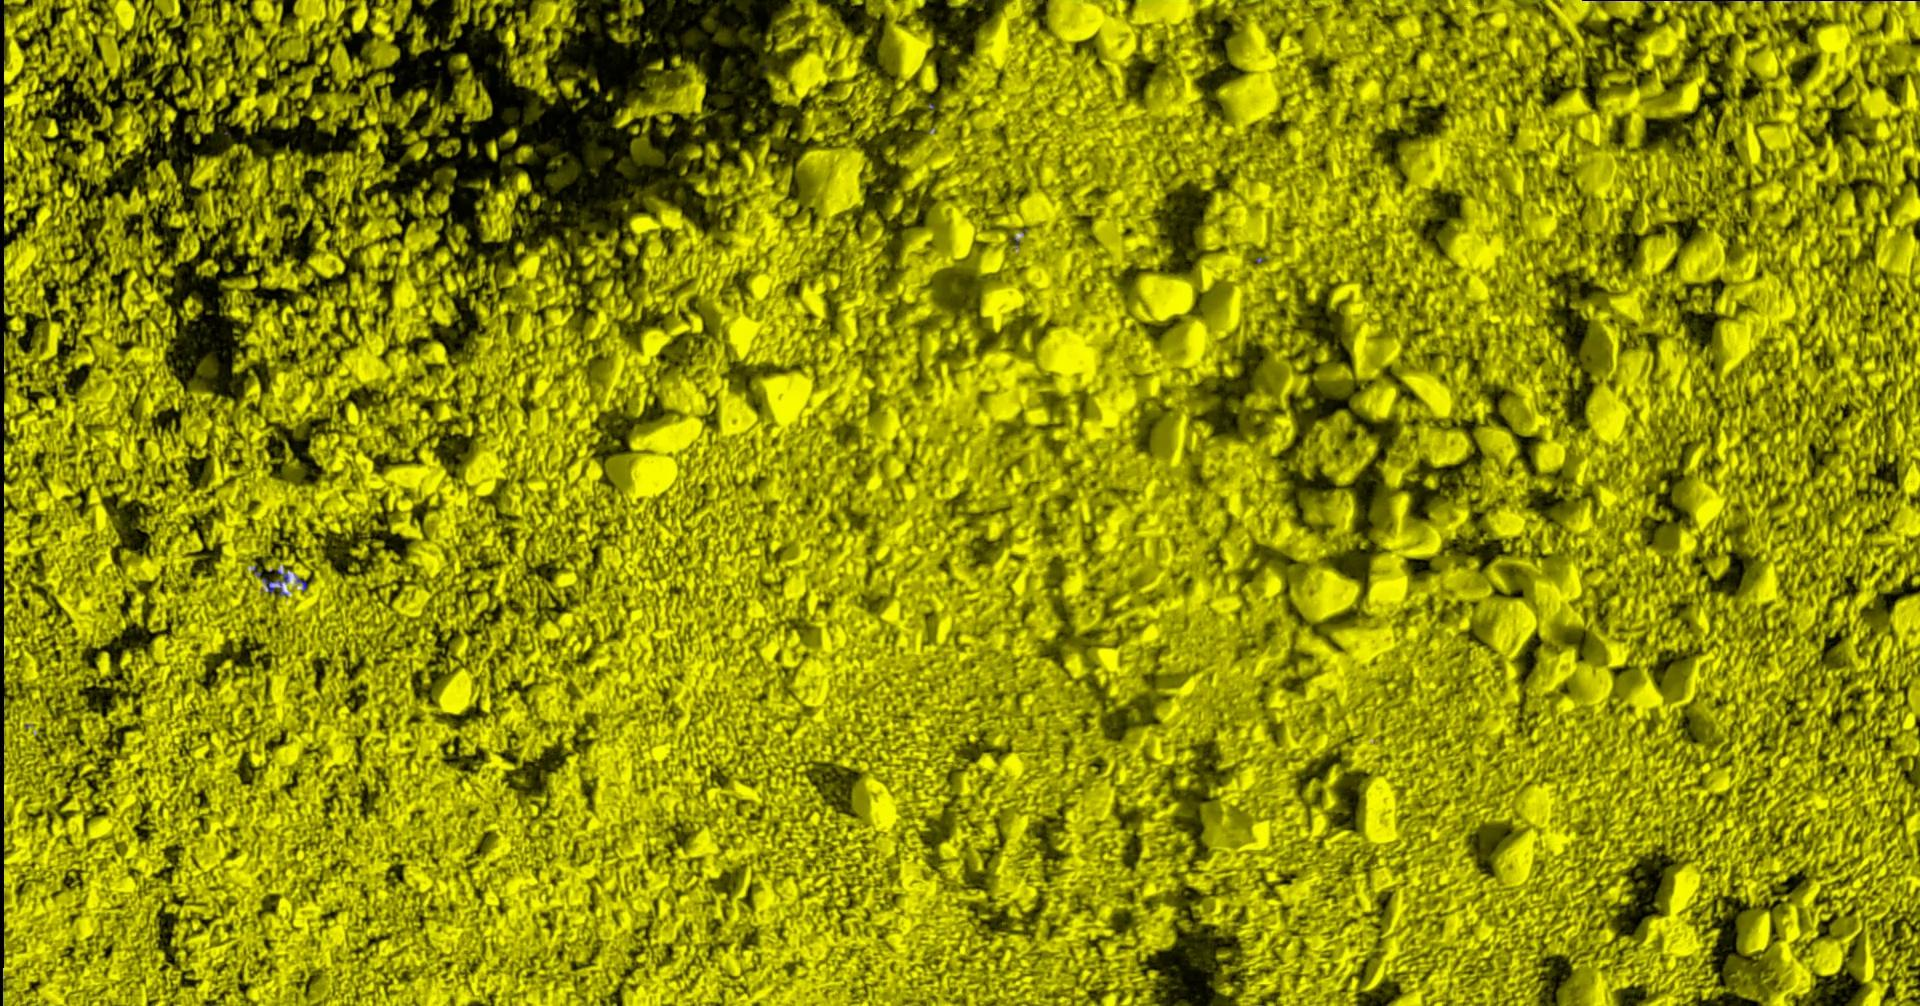ant: (255, 565, 290, 596)
